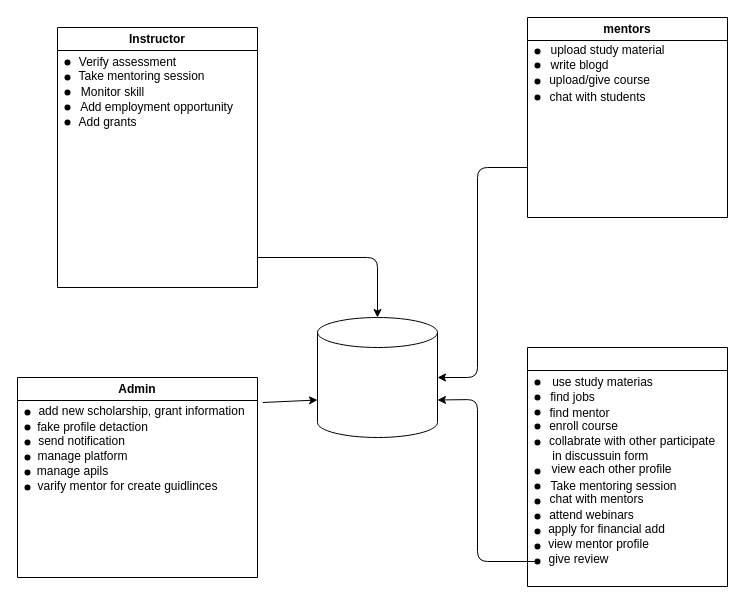
This 755x604 diagram has some shape labels left out. Here are the shapes that lost their labels. From the top down, the box of each, then its label:
(316, 316, 438, 438): Database
(526, 346, 728, 586): Student
